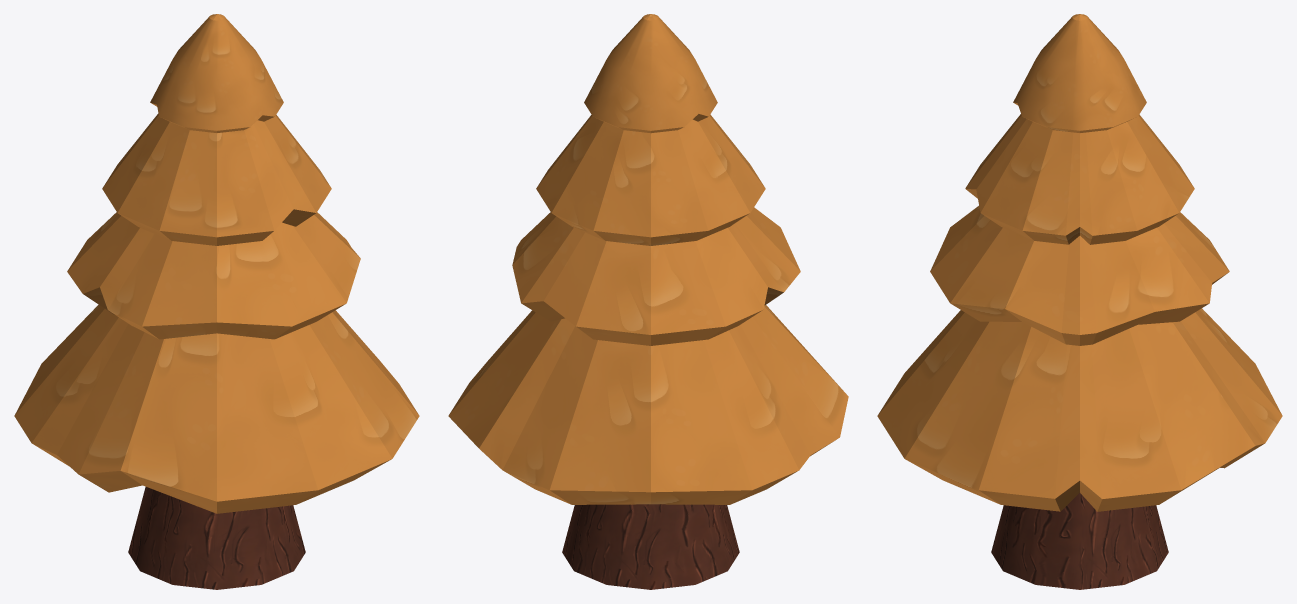
Rendered from Pine 2.FBX.
3 renders of one model, left to right at view 1: azimuth 30°, elevation 25°; view 2: azimuth 150°, elevation 25°; view 3: azimuth 270°, elevation 25°, orthographic.
Parts seen in each view (by area): view 1: Cone001; view 2: Cone001; view 3: Cone001.
Part boxes in pixels (x1,y1,x2,y2): Cone001: [14, 14, 419, 589]; Cone001: [448, 14, 848, 589]; Cone001: [877, 14, 1282, 589].
Bounding box in the file's own units: 21.38 × 32.61 × 22.25.
